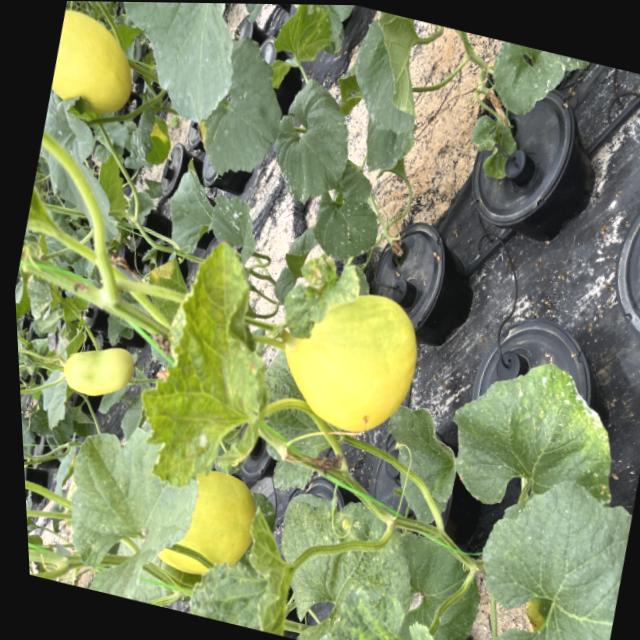CMV: (435, 352, 637, 517)
SLCV: (182, 505, 307, 636), (301, 573, 471, 640), (17, 269, 70, 326)
alternaria leaf blight: (123, 105, 178, 173)
downy mildew: (446, 454, 640, 640), (43, 420, 217, 611), (96, 1, 255, 133)
healthy: (183, 27, 299, 188), (261, 74, 362, 207), (338, 12, 433, 137), (266, 4, 341, 74)
powdery mildew: (302, 161, 392, 273), (479, 39, 587, 130), (458, 107, 530, 192), (203, 189, 264, 255)
